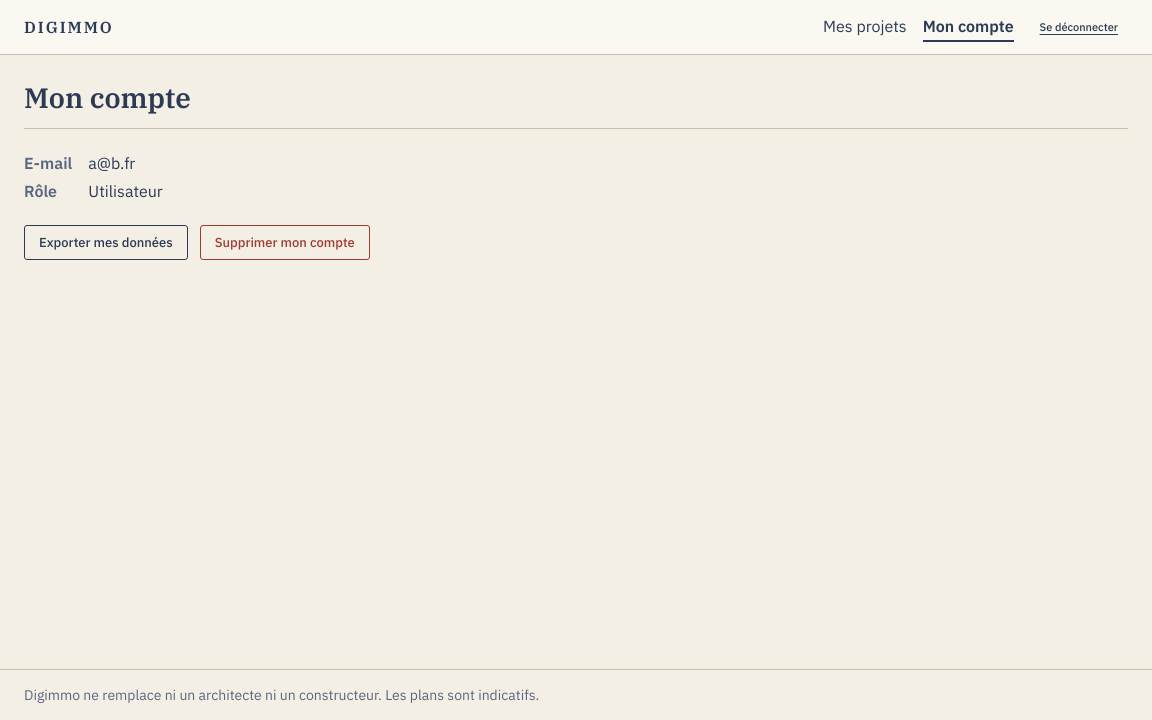
Scenario: mon compte › suppression : trop de tentatives (429) => message dans la modale
Click the button "Supprimer mon compte" at x=285, y=242, box x1=200 y1=225 x2=370 y2=260
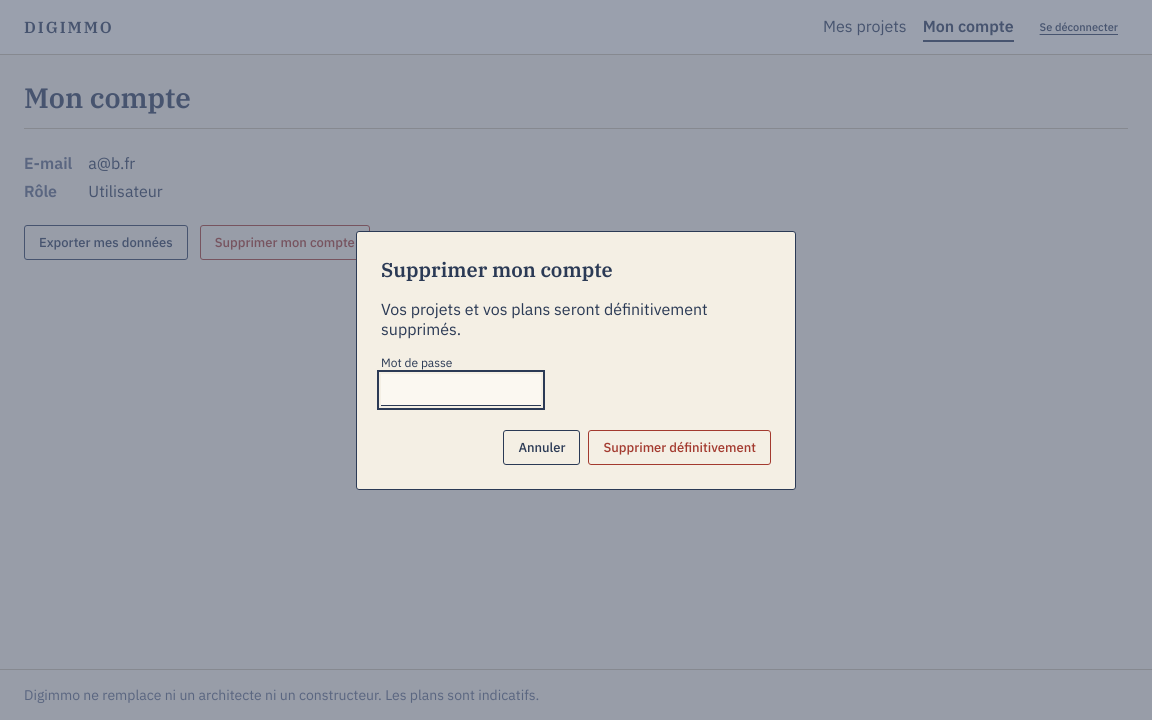
Type "x" into the password field labelled "Mot de passe" at x=461, y=390, box x1=381 y1=374 x2=541 y2=406
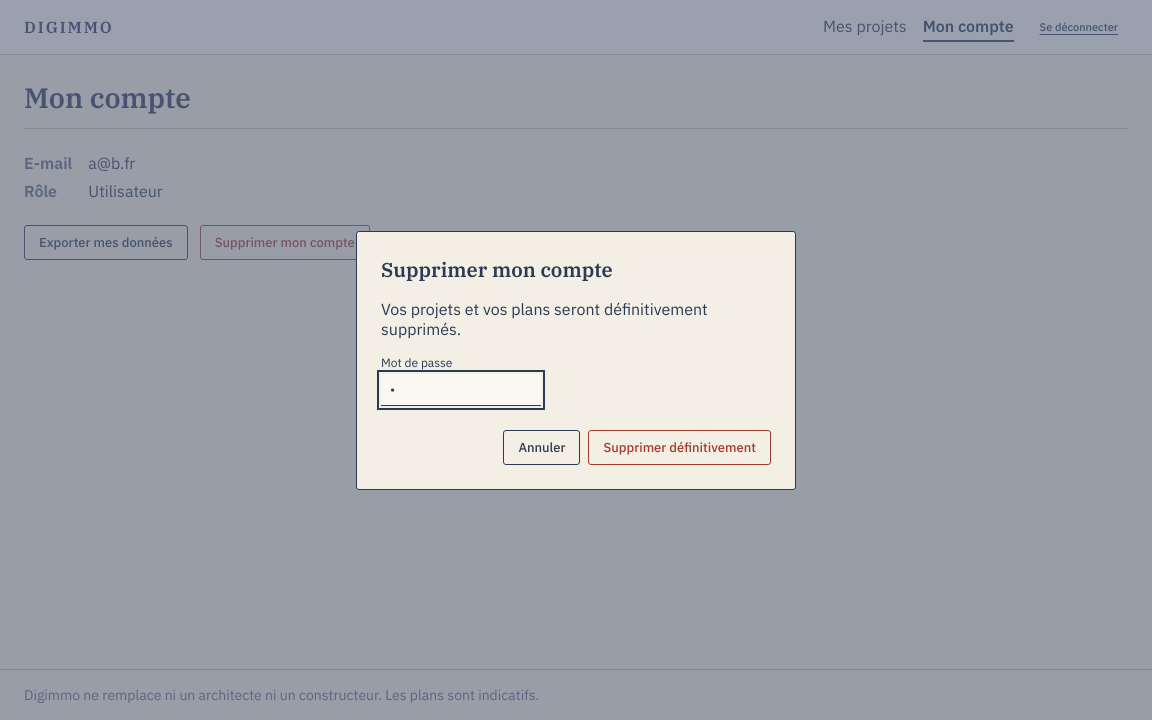
Click the button "Supprimer définitivement" at x=680, y=447, box x1=588 y1=430 x2=771 y2=464
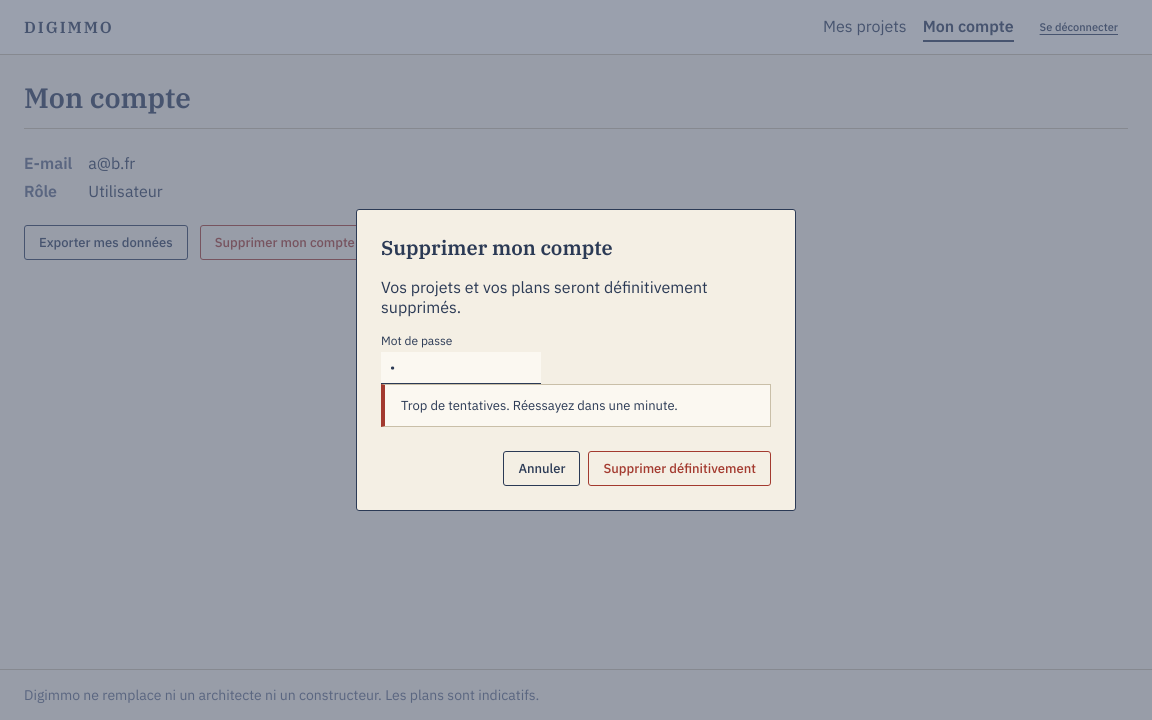
Expected: the message shows "Trop de tentatives.", x1=401 y1=397 x2=678 y2=414
